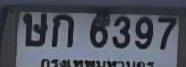3: (112, 15, 130, 47)
6: (89, 12, 109, 47)
7: (157, 16, 175, 49)
9: (134, 16, 152, 48)
A01: (51, 14, 73, 46)
A39: (22, 12, 48, 46)
